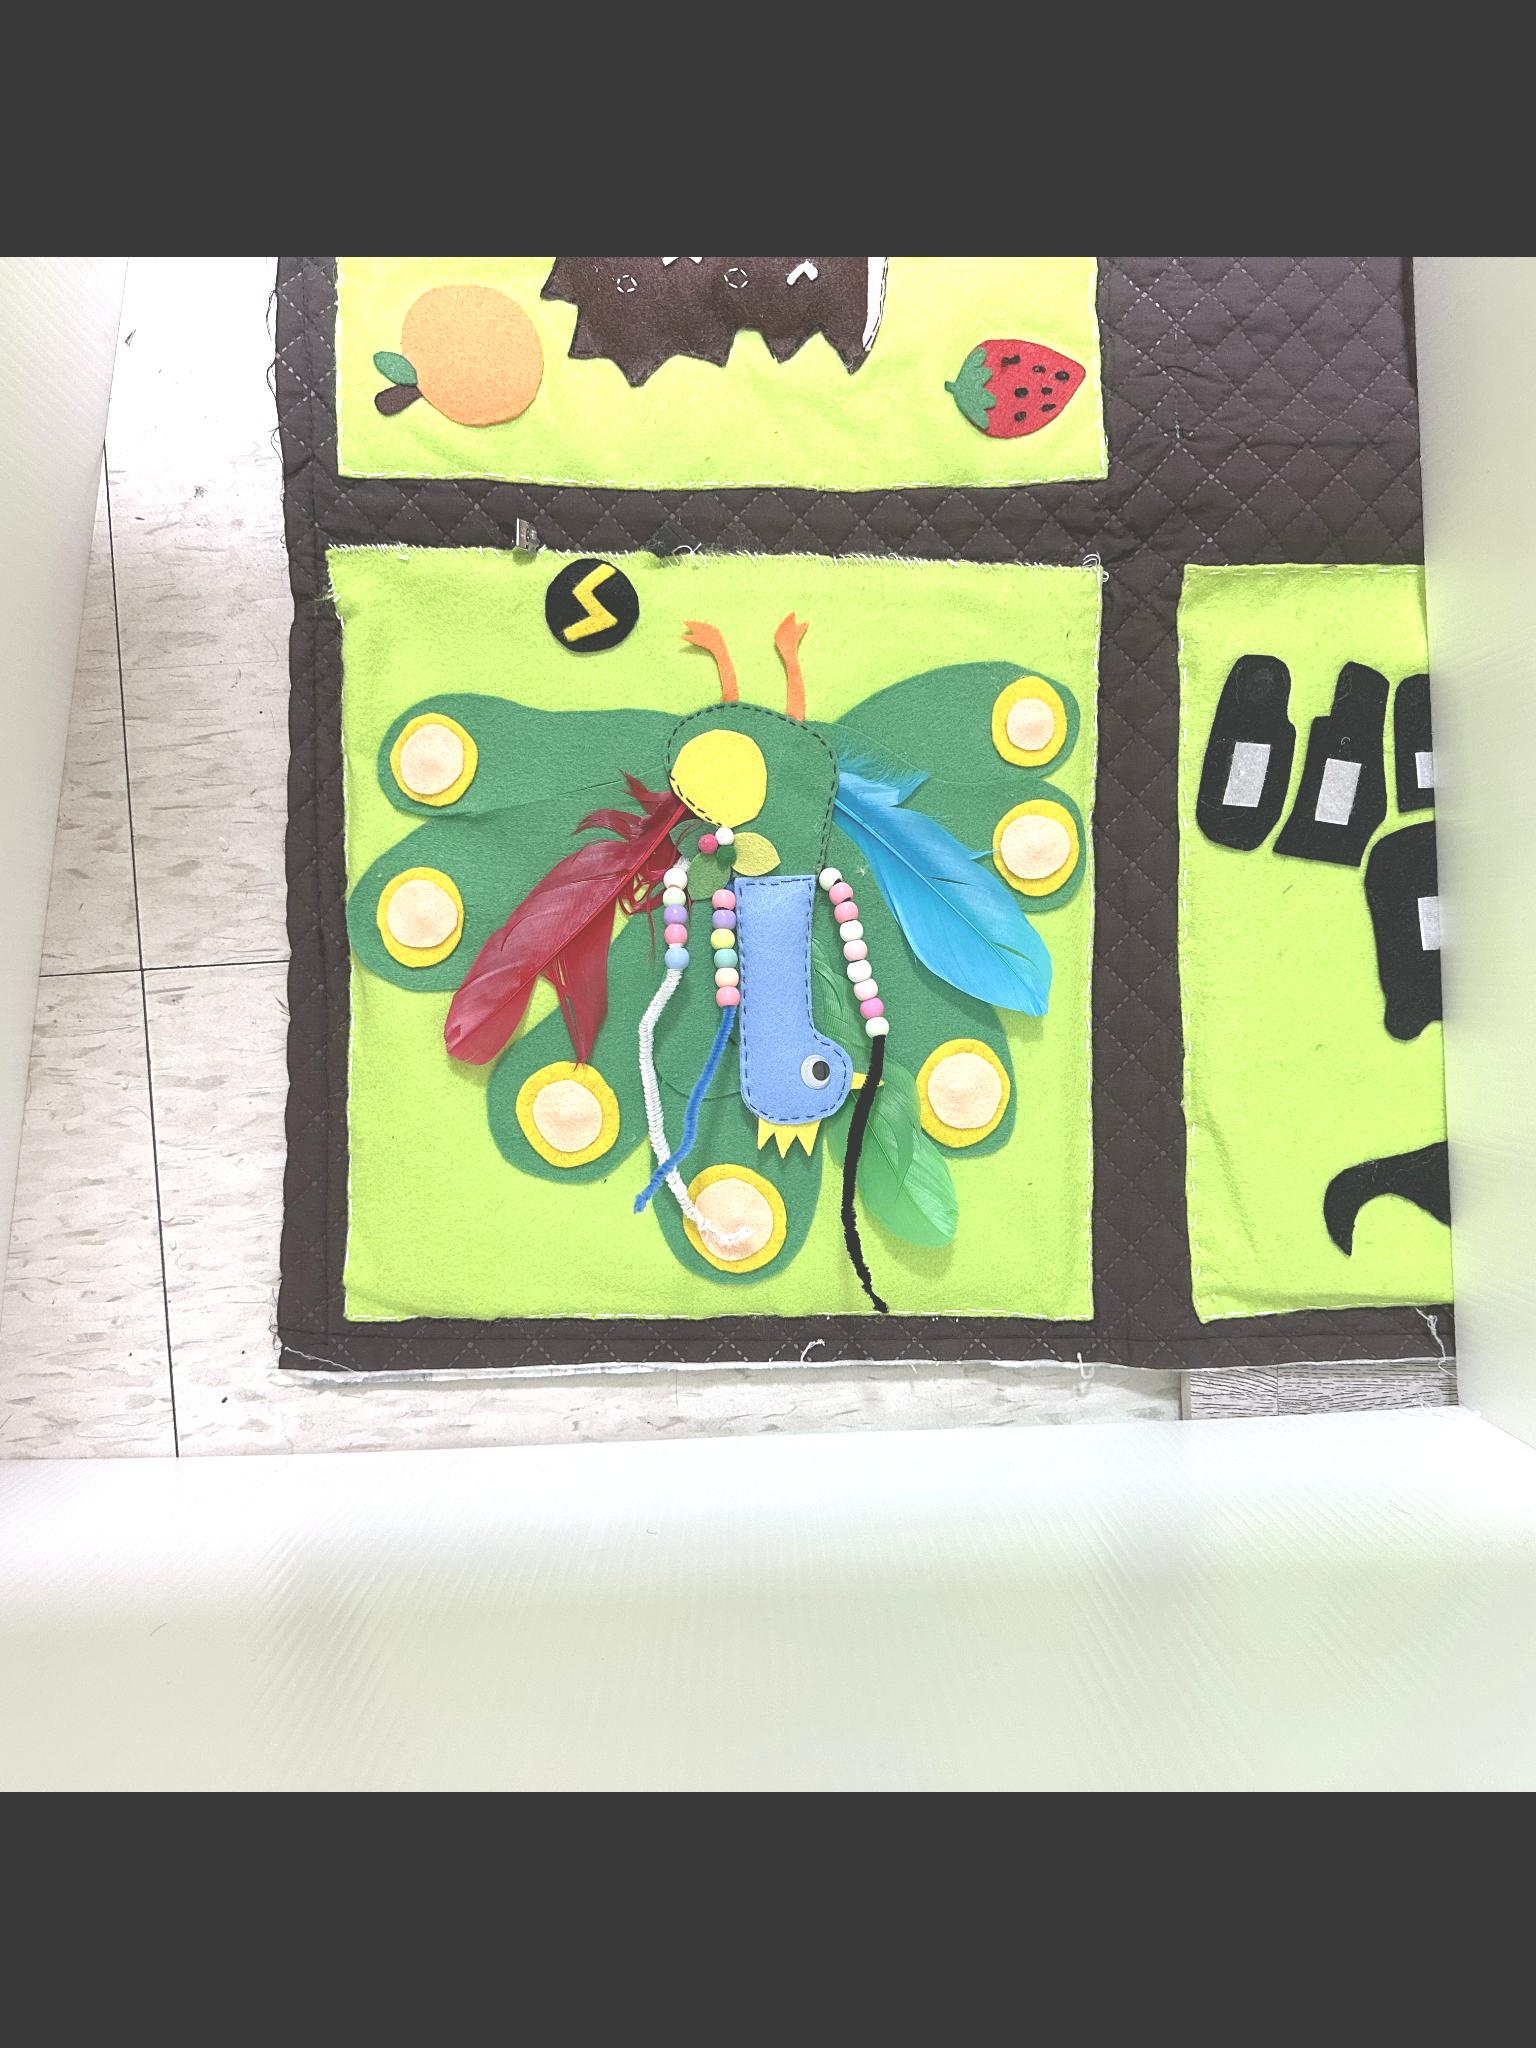bead: (710, 926, 739, 948), (665, 945, 689, 971), (842, 937, 866, 961), (854, 976, 878, 1000), (716, 987, 742, 1008), (863, 1016, 891, 1035), (831, 880, 854, 903), (836, 898, 858, 921), (818, 864, 839, 889), (849, 956, 870, 980), (713, 966, 739, 985), (663, 924, 689, 943), (842, 919, 863, 942), (713, 885, 734, 908), (715, 945, 737, 966), (713, 908, 737, 927), (663, 866, 687, 885), (665, 884, 686, 905), (663, 903, 686, 922), (862, 995, 883, 1014)
